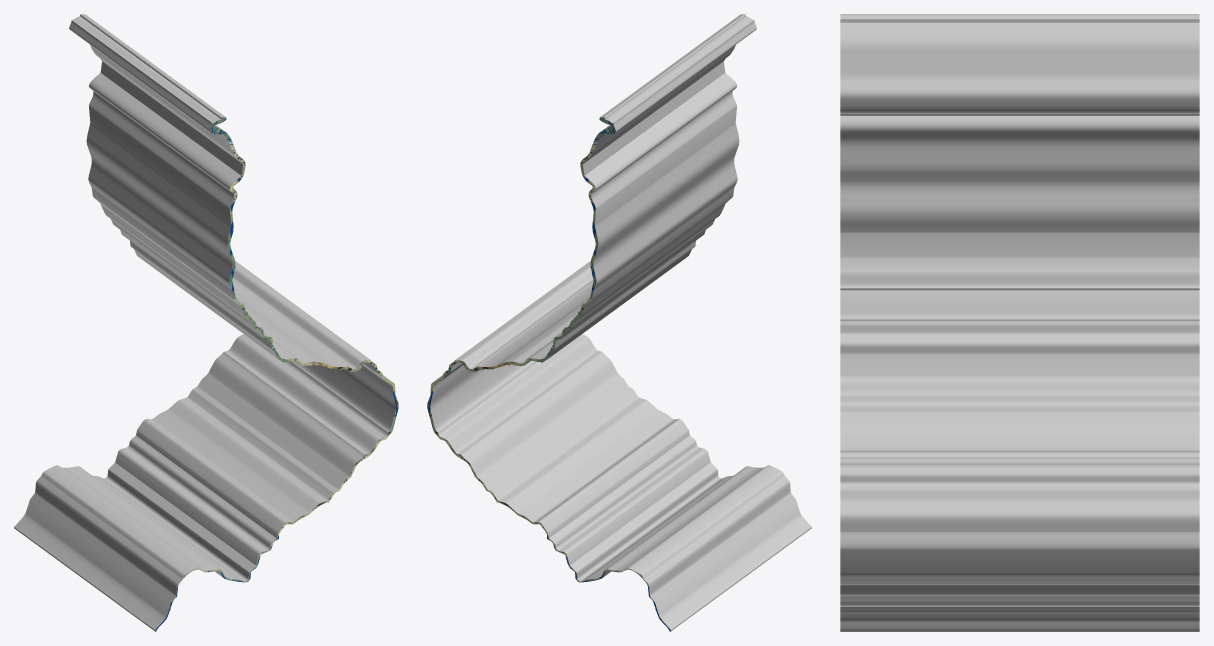
Rendered from Слой 4.dae.
The picture shows the model from 3 angles, left to right: view 1: azimuth 30°, elevation 25°; view 2: azimuth 150°, elevation 25°; view 3: azimuth 270°, elevation 25°; orthographic projection. The views are drawn at different scales.
Parts seen in each view (by area): view 1: Слой_4; view 2: Слой_4; view 3: Слой_4.
Boxes of the visible parts, bbox=[...] form: Слой_4: bbox=[14, 14, 398, 631]; Слой_4: bbox=[427, 14, 811, 631]; Слой_4: bbox=[840, 14, 1199, 631].
Size of the model in its own units: 9.92 by 19.38 by 9.93.
